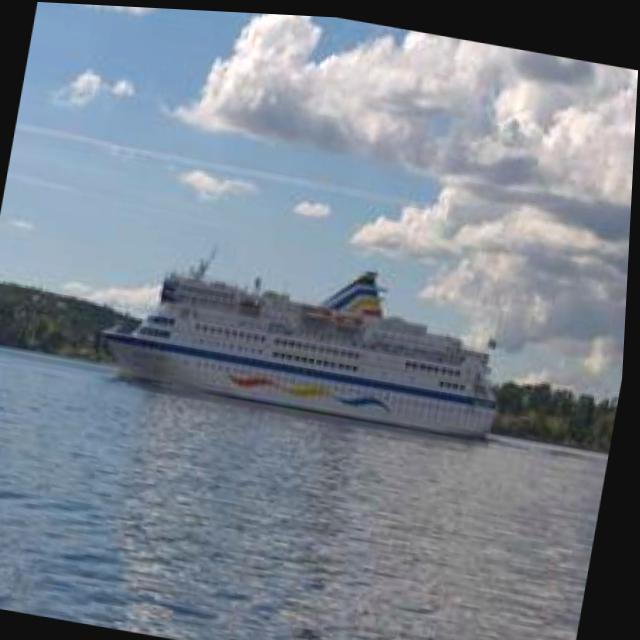ship2: (106, 238, 502, 438)
